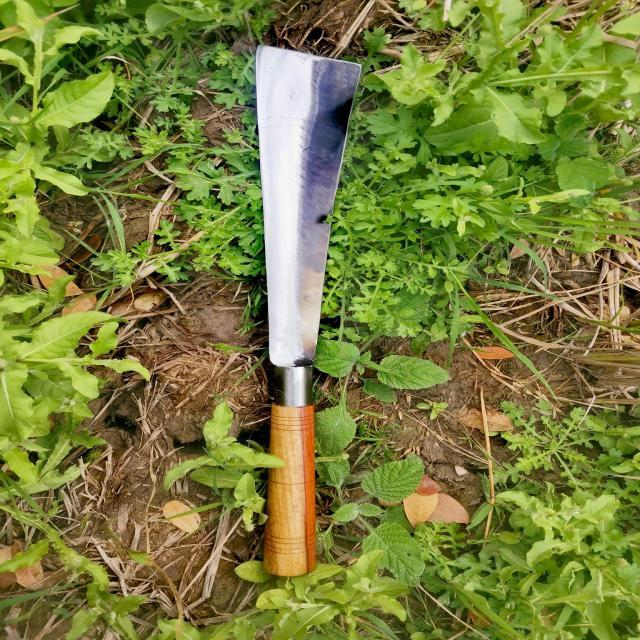eto: (248, 35, 372, 582)
